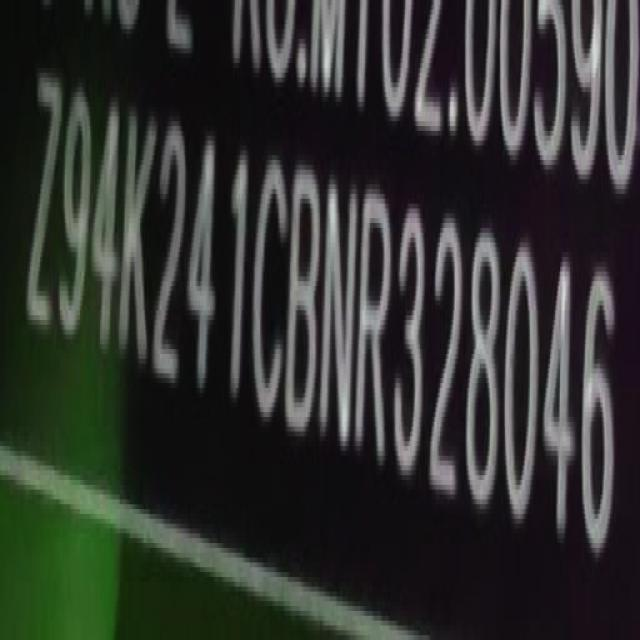0: (503, 241, 541, 530)
1: (222, 150, 250, 409)
2: (151, 117, 188, 388), (430, 217, 464, 502)
3: (393, 208, 428, 486)
4: (540, 252, 578, 545), (187, 131, 223, 397), (92, 92, 124, 356)
6: (582, 269, 622, 559)
8: (464, 224, 501, 513)
9: (57, 85, 95, 345)
B: (288, 164, 325, 440)
C: (252, 154, 289, 421)
K: (115, 102, 158, 376)
N: (320, 170, 358, 450)
R: (358, 185, 396, 464)
Z: (20, 66, 64, 339)
